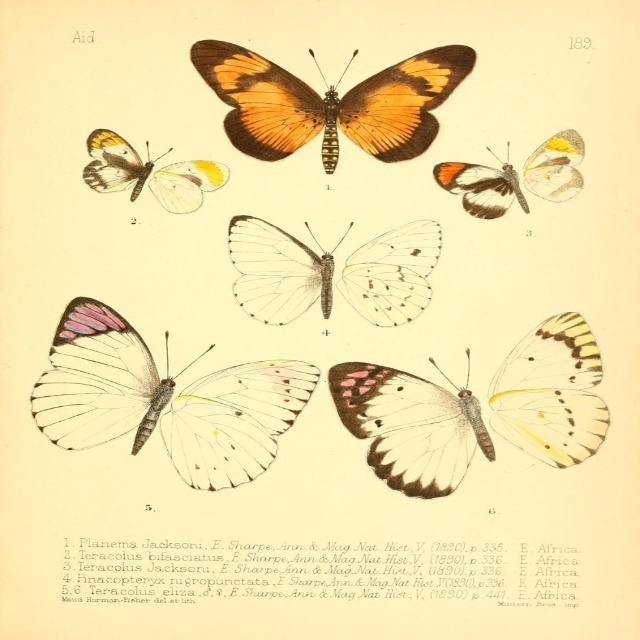Butterfly: (25, 285, 324, 498), (320, 310, 634, 504), (182, 35, 471, 168), (218, 212, 450, 323), (432, 126, 577, 222), (77, 131, 228, 217)
